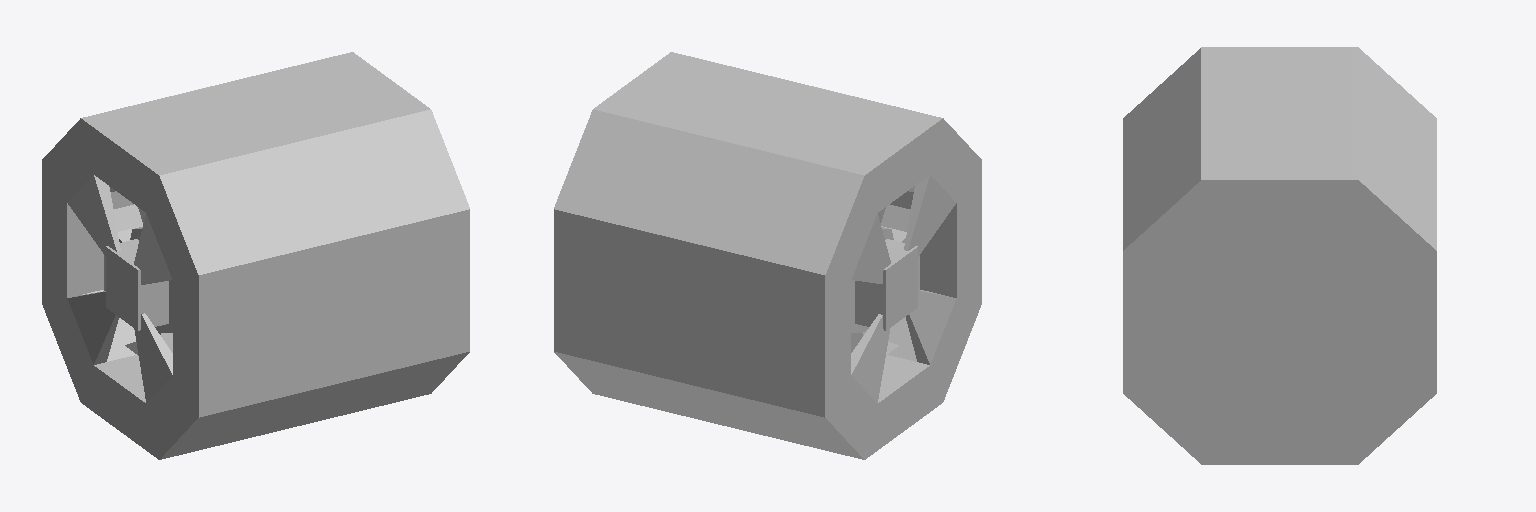
File: motor.obj
The picture shows the model from 3 angles: view 1: azimuth 30°, elevation 25°; view 2: azimuth 150°, elevation 25°; view 3: azimuth 270°, elevation 25°; orthographic projection.
Visible parts, largest first — view 1: stator, rotor; view 2: stator, rotor; view 3: stator.
Boxes of the visible parts, <box> form: stator: <box>42,52,469,459</box>; rotor: <box>104,204,172,355</box>; stator: <box>554,52,981,459</box>; rotor: <box>851,204,919,354</box>; stator: <box>1123,47,1436,464</box>.
Bounding box in the file's own units: 1 × 1 × 1.